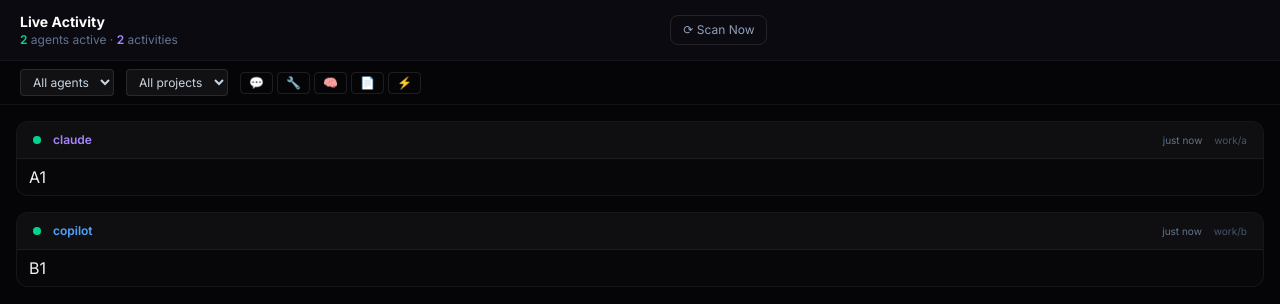
it: LiveActivityView — filters › toggles type filters on and off
The image size is (1280, 304).
Click the button titled "tool_use" at (294, 82), box [277,72,310,94]
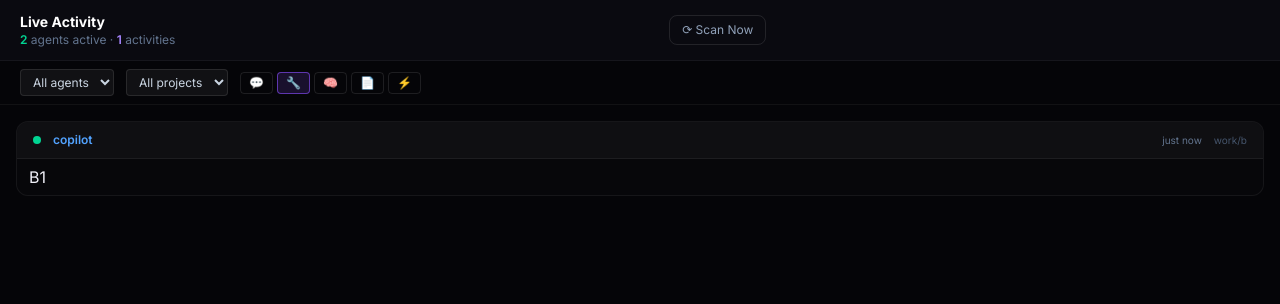
Expected: the text "B1" is shown, [29,167,46,187]
Expected: the text "A1" is gone
Click the button titled "message" at (256, 82), box [240,72,273,94]
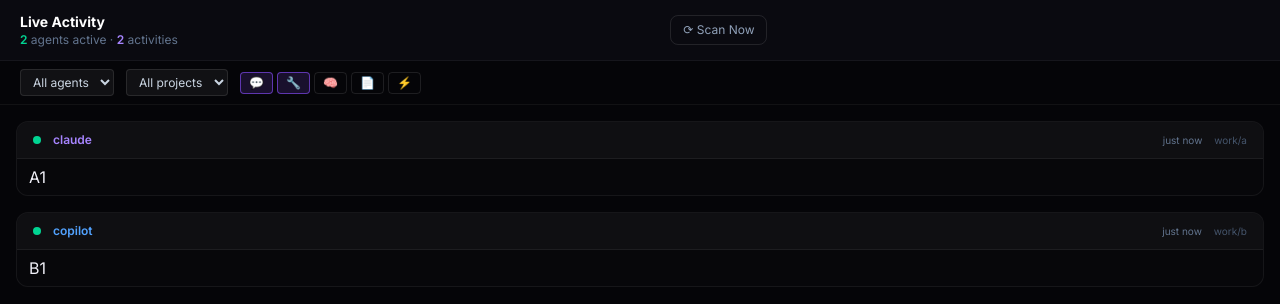
Expected: the text "A1" is shown, [29,167,46,187]
Click the button titled "tool_use" at (294, 82), box [277,72,310,94]
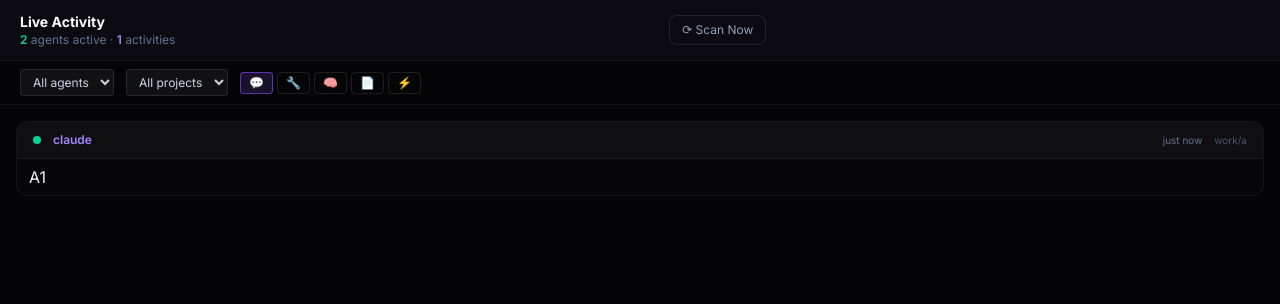
Click the button titled "message" at (256, 82), box [240,72,273,94]
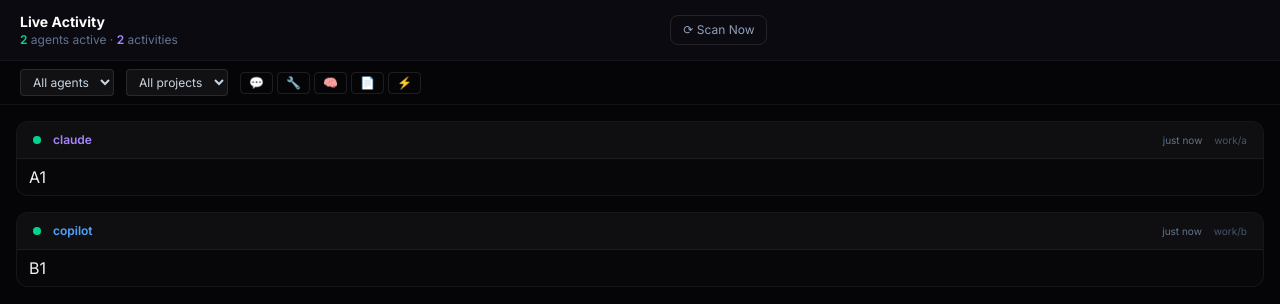
Expected: the text "B1" is shown, [29,258,46,278]
